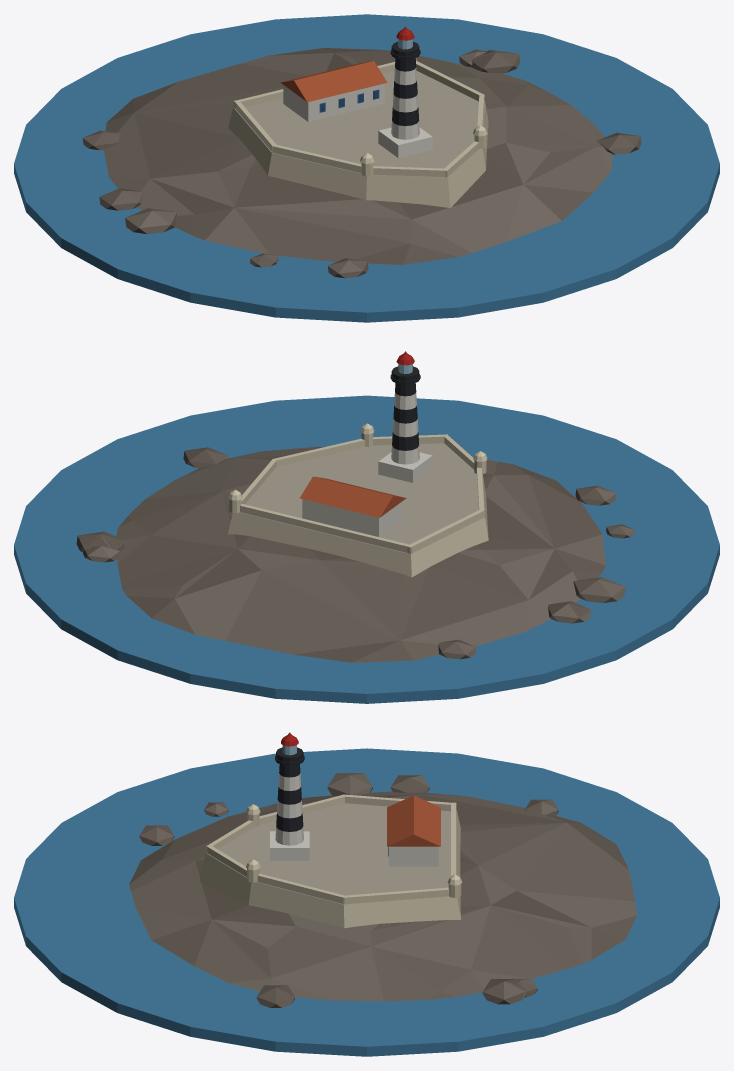
File: farol_da_barra.glb
The picture shows the model from 3 angles, top to bottom: view 1: azimuth 30°, elevation 25°; view 2: azimuth 150°, elevation 25°; view 3: azimuth 270°, elevation 25°; orthographic projection.
Visible parts, largest first — view 1: farol_da_barra; view 2: farol_da_barra; view 3: farol_da_barra.
Part boxes in pixels (left/top/right/bottom): farol_da_barra: left=14, top=14, right=719, bottom=322; farol_da_barra: left=14, top=351, right=719, bottom=703; farol_da_barra: left=14, top=732, right=719, bottom=1056.
Size of the model in its own units: 128 by 35.76 by 128.
